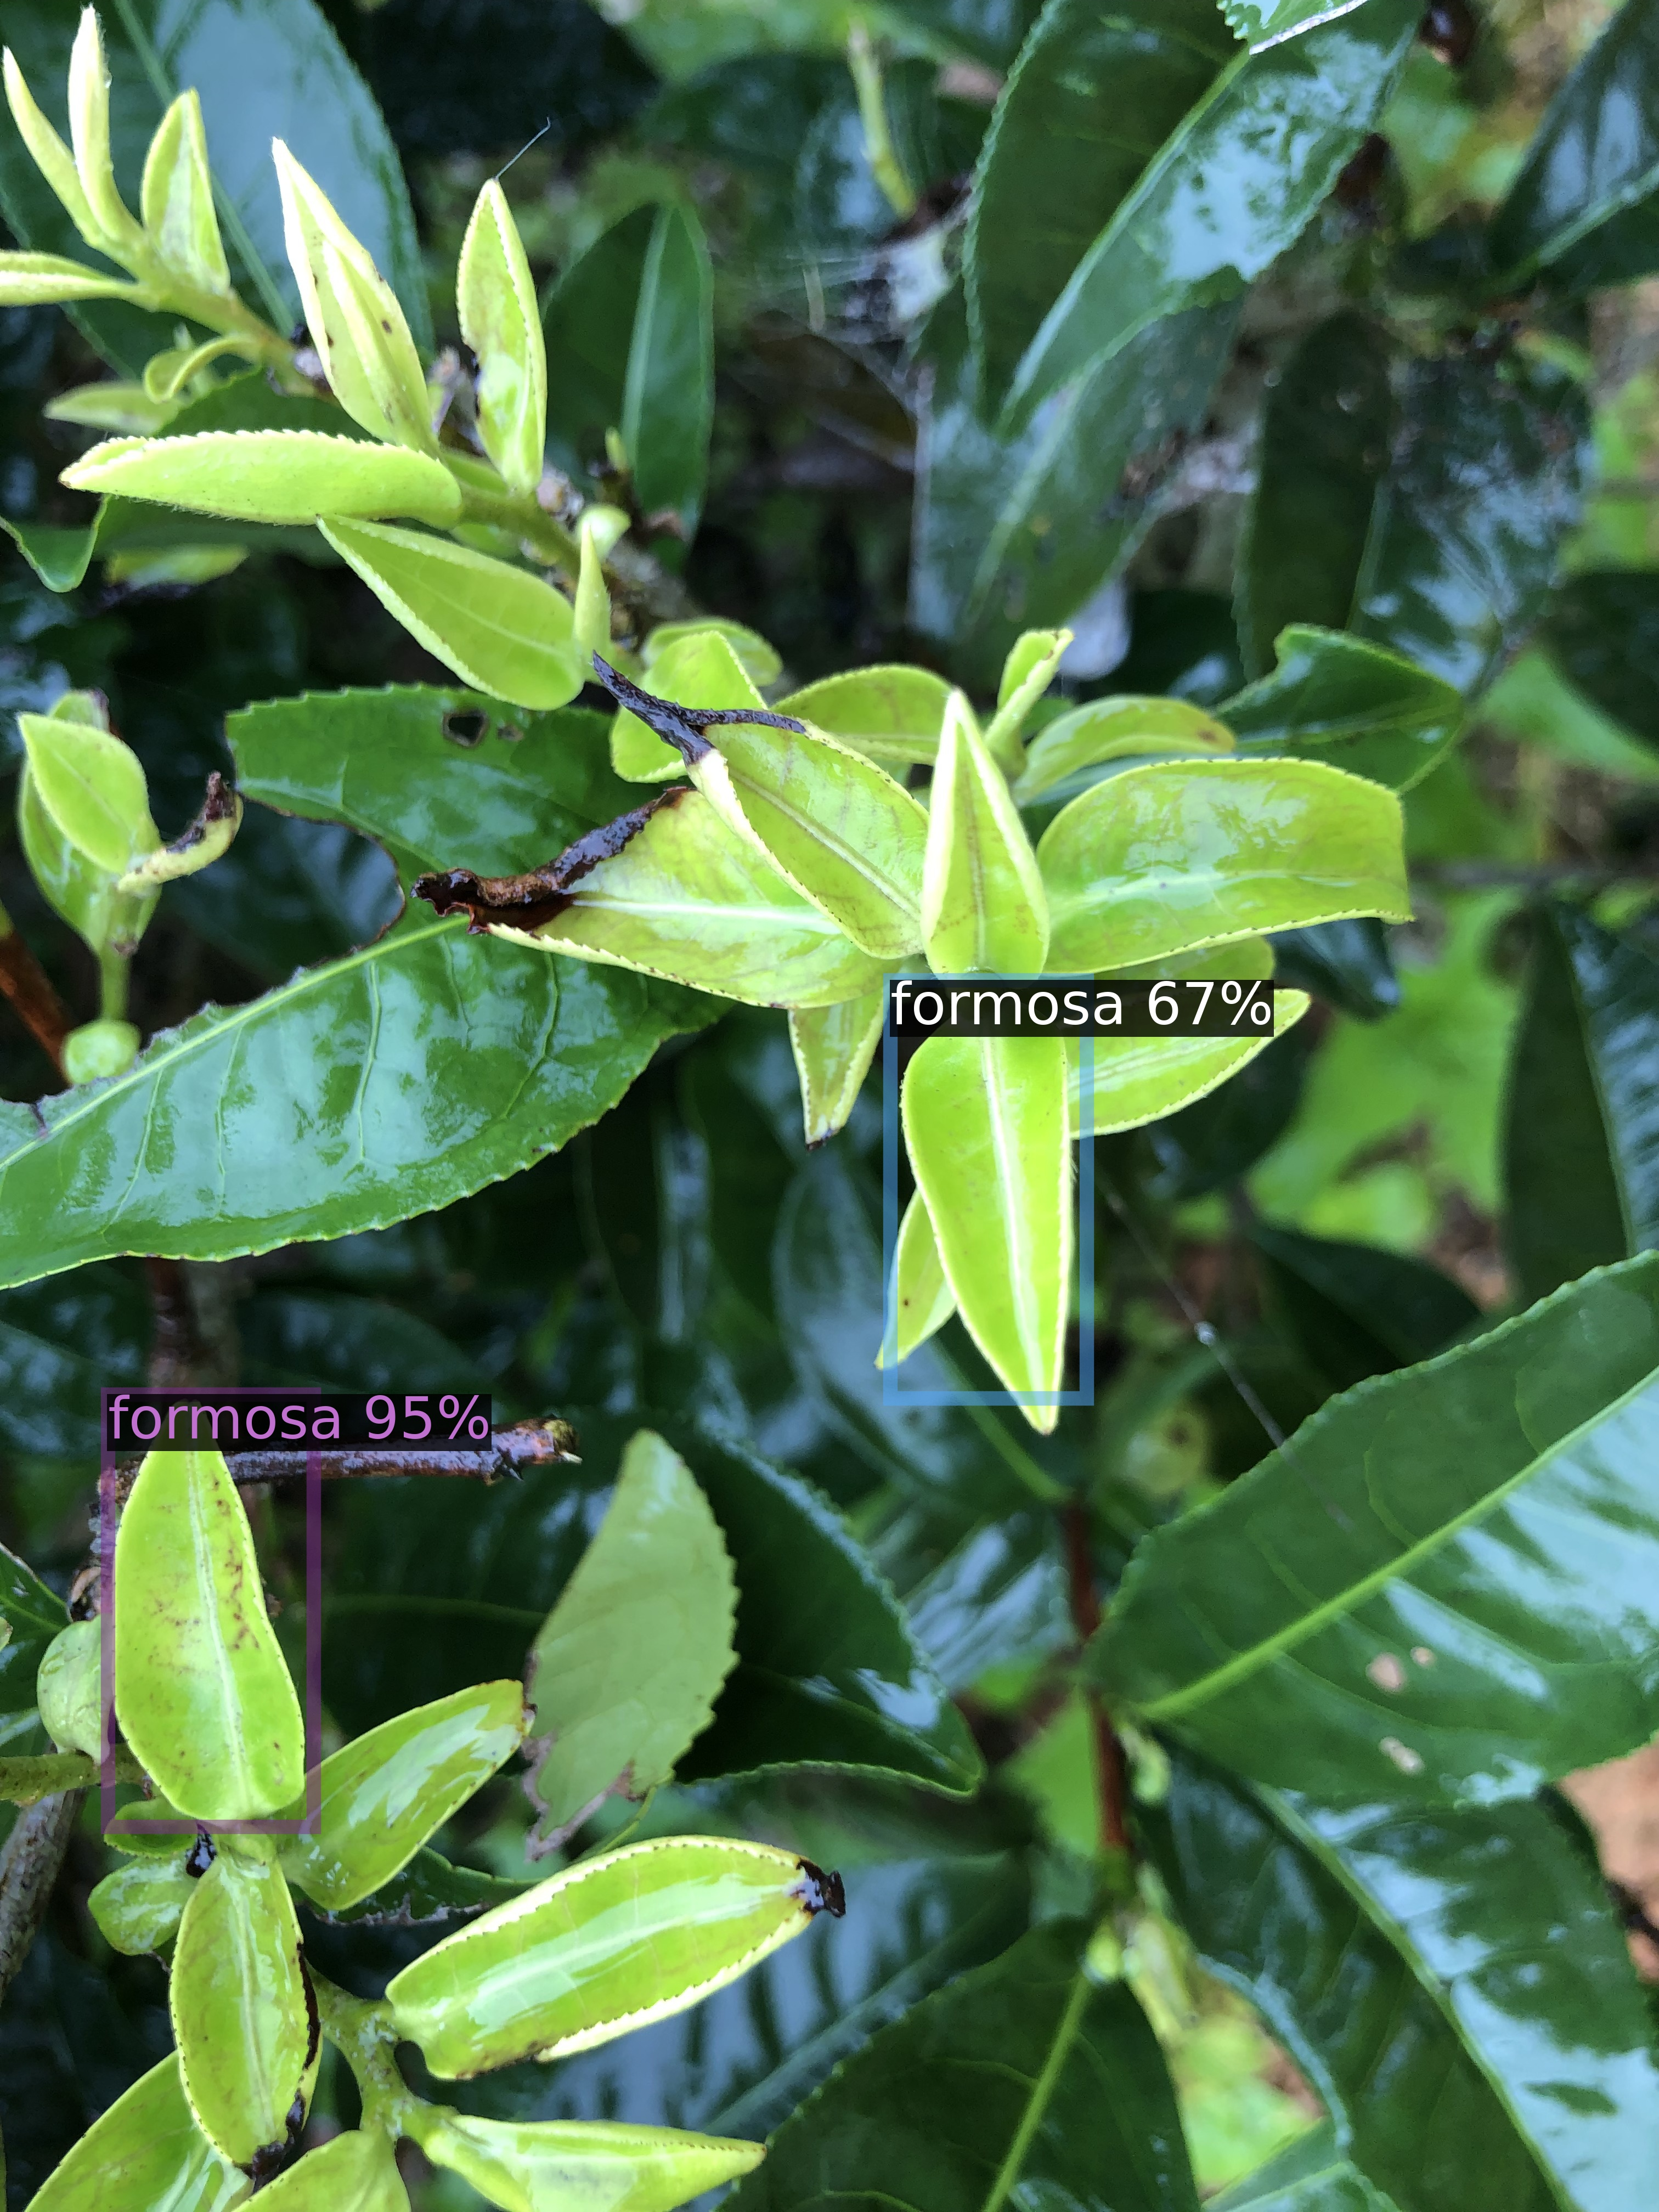formosa: (108, 1395, 314, 1827), (890, 981, 1087, 1399)
